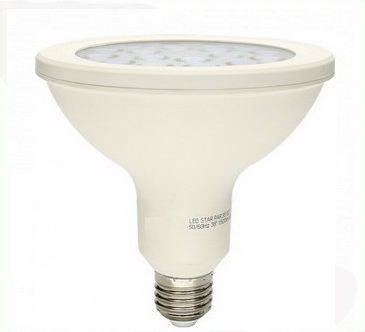Light_bulb: (33, 28, 338, 332)
